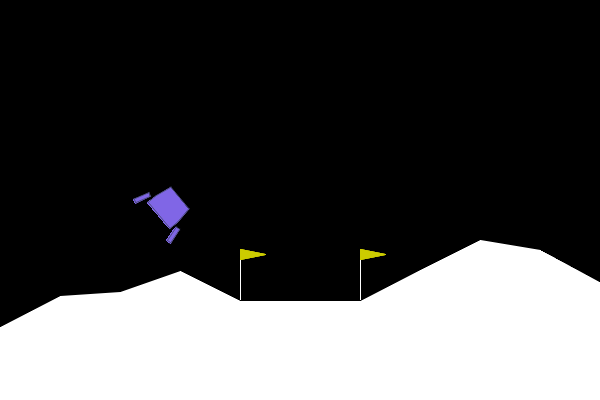lander: (131, 174, 200, 246)
